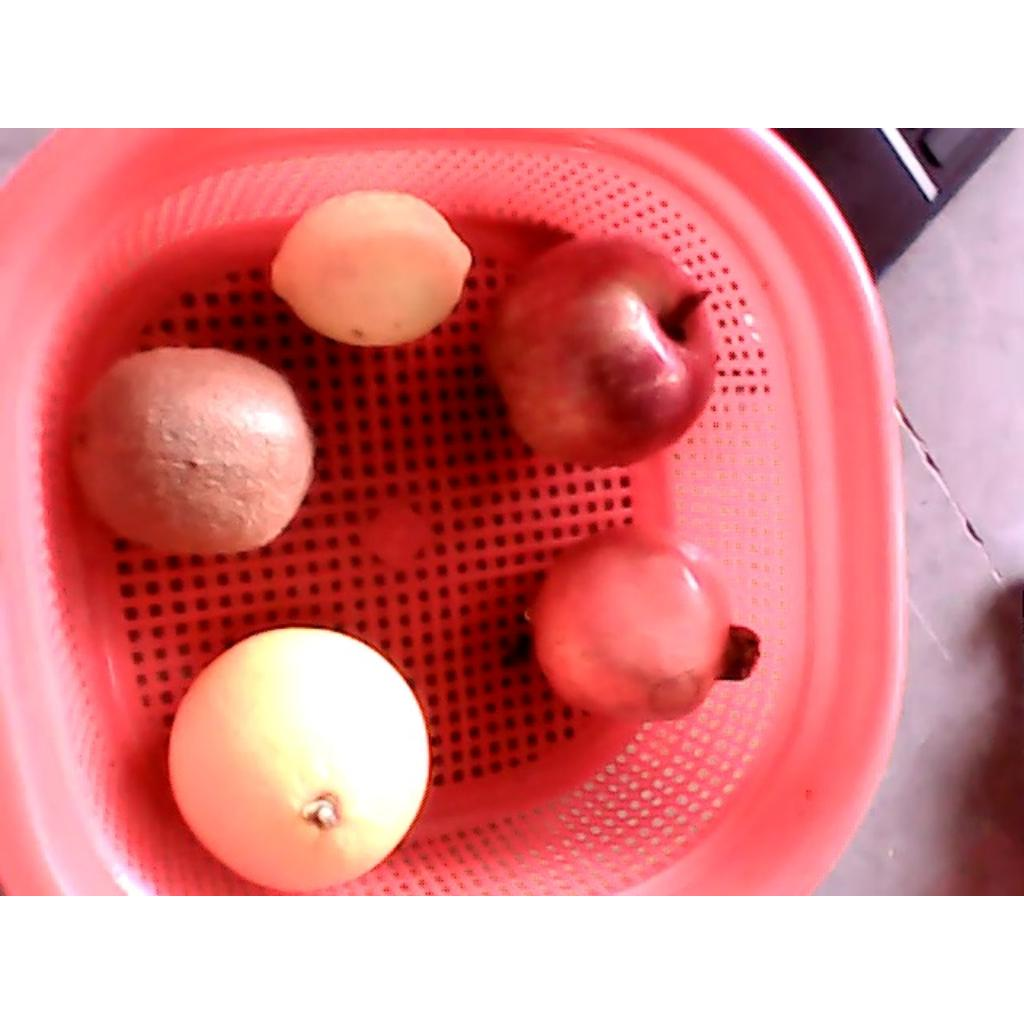apple: (478, 235, 720, 468)
kiwi: (63, 345, 314, 555)
lemon: (268, 190, 474, 348)
orange: (169, 627, 430, 893)
pomegranate: (528, 528, 761, 724)
